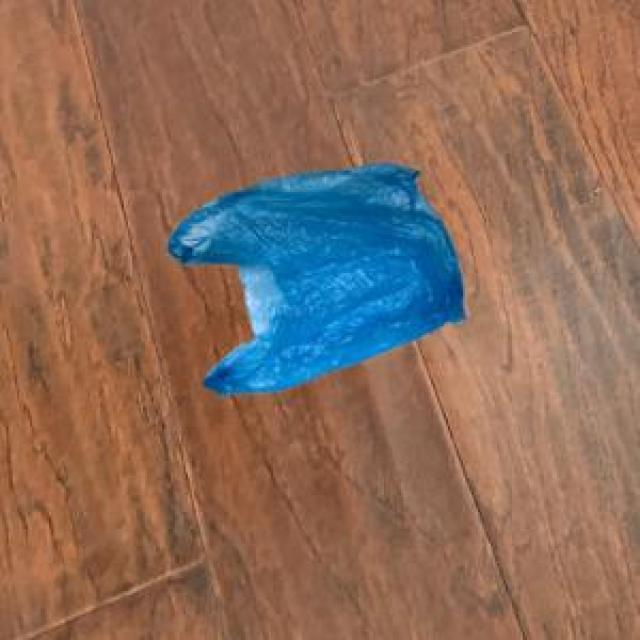Vinyl: (169, 164, 465, 394)
